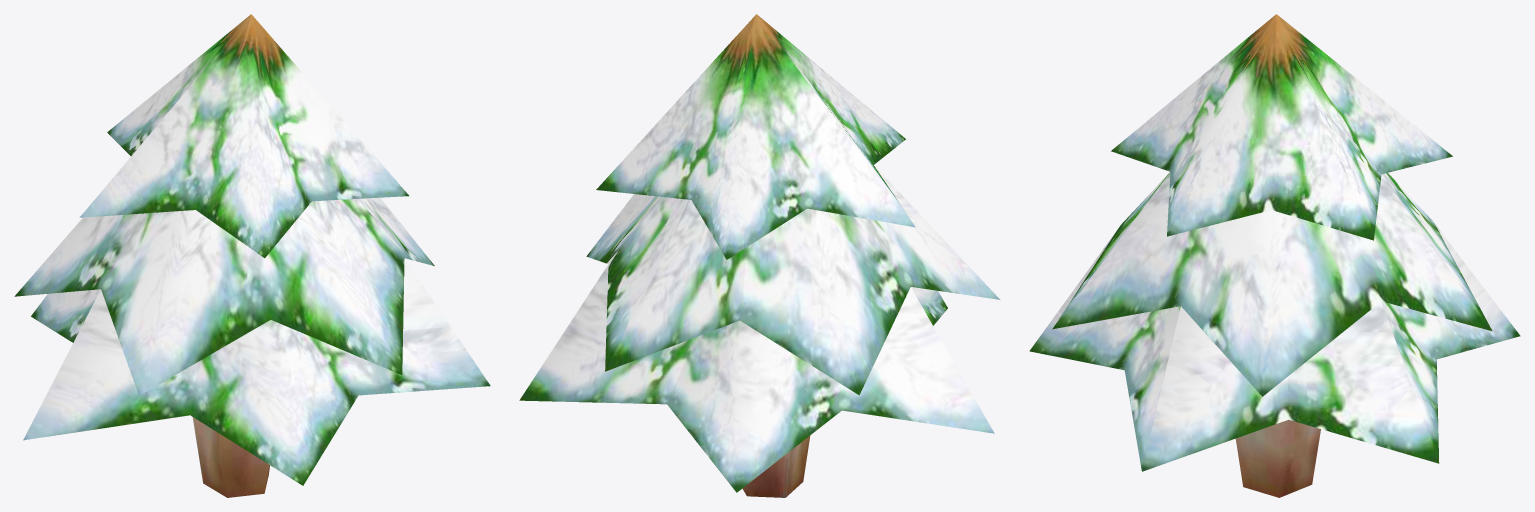
The model's file is Tree4.gltf.
3 views of the same model, side by side, from view 1: azimuth 30°, elevation 25°; view 2: azimuth 150°, elevation 25°; view 3: azimuth 270°, elevation 25° (orthographic).
Parts seen in each view (by area): view 1: conifer; view 2: conifer; view 3: conifer.
Part boxes in pixels (x1,y1,x2,y2): conifer: [14, 14, 490, 497]; conifer: [519, 14, 1000, 497]; conifer: [1029, 14, 1520, 497].
Size of the model in its own units: 6.22 by 6.77 by 6.35.
Materials: 1 (1 with a texture image).
